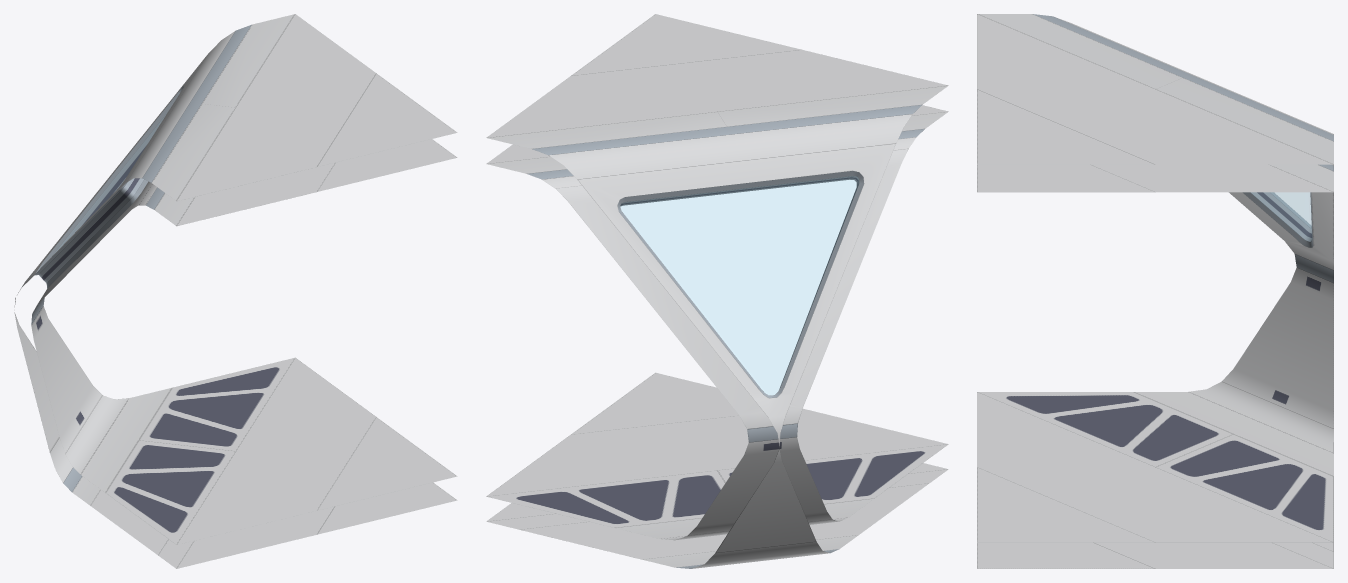
Rendered from Angle_Part_01.FBX.
3 views of the same model, side by side, from view 1: azimuth 30°, elevation 25°; view 2: azimuth 150°, elevation 25°; view 3: azimuth 270°, elevation 25° (orthographic). The views are drawn at different scales.
Visible parts, largest first — view 1: Angle_Part_01, Glass; view 2: Angle_Part_01, Glass; view 3: Angle_Part_01, Glass.
Part boxes in pixels (x1,y1,x2,y2): Angle_Part_01: (14,14,457,568); Glass: (60,119,162,246); Angle_Part_01: (486,14,948,568); Glass: (620,176,858,394); Angle_Part_01: (977,14,1333,568); Glass: (1251,192,1311,241).
Bounding box in the file's own units: 4 × 5 × 4.
Materials: 3 (2 with a texture image).
